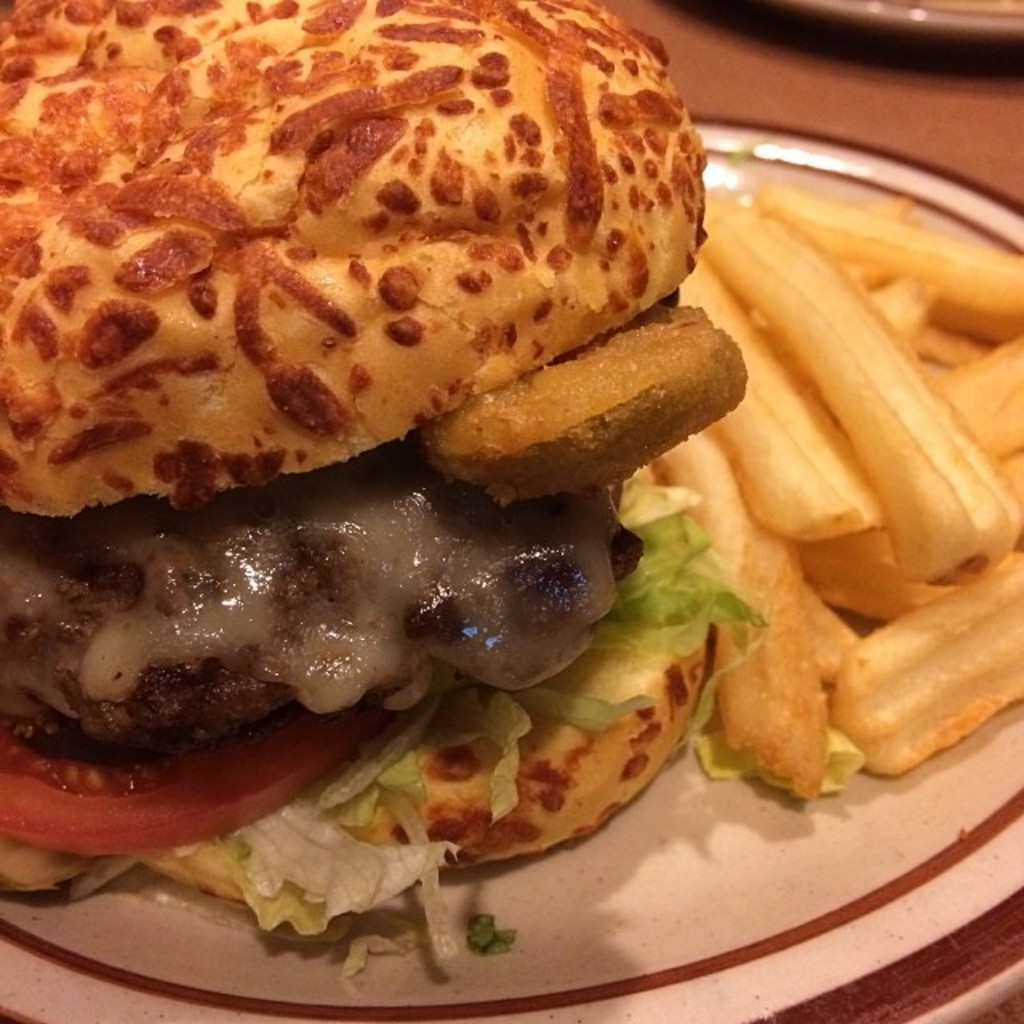French fries: (679, 94, 1017, 790)
